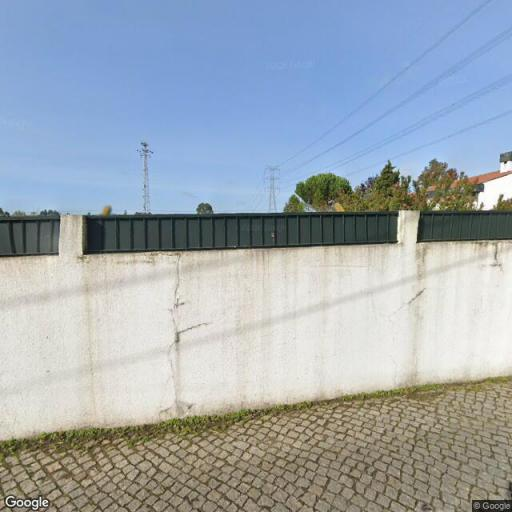ss_1: (135, 138, 155, 212)
ss_3: (261, 161, 284, 213)
